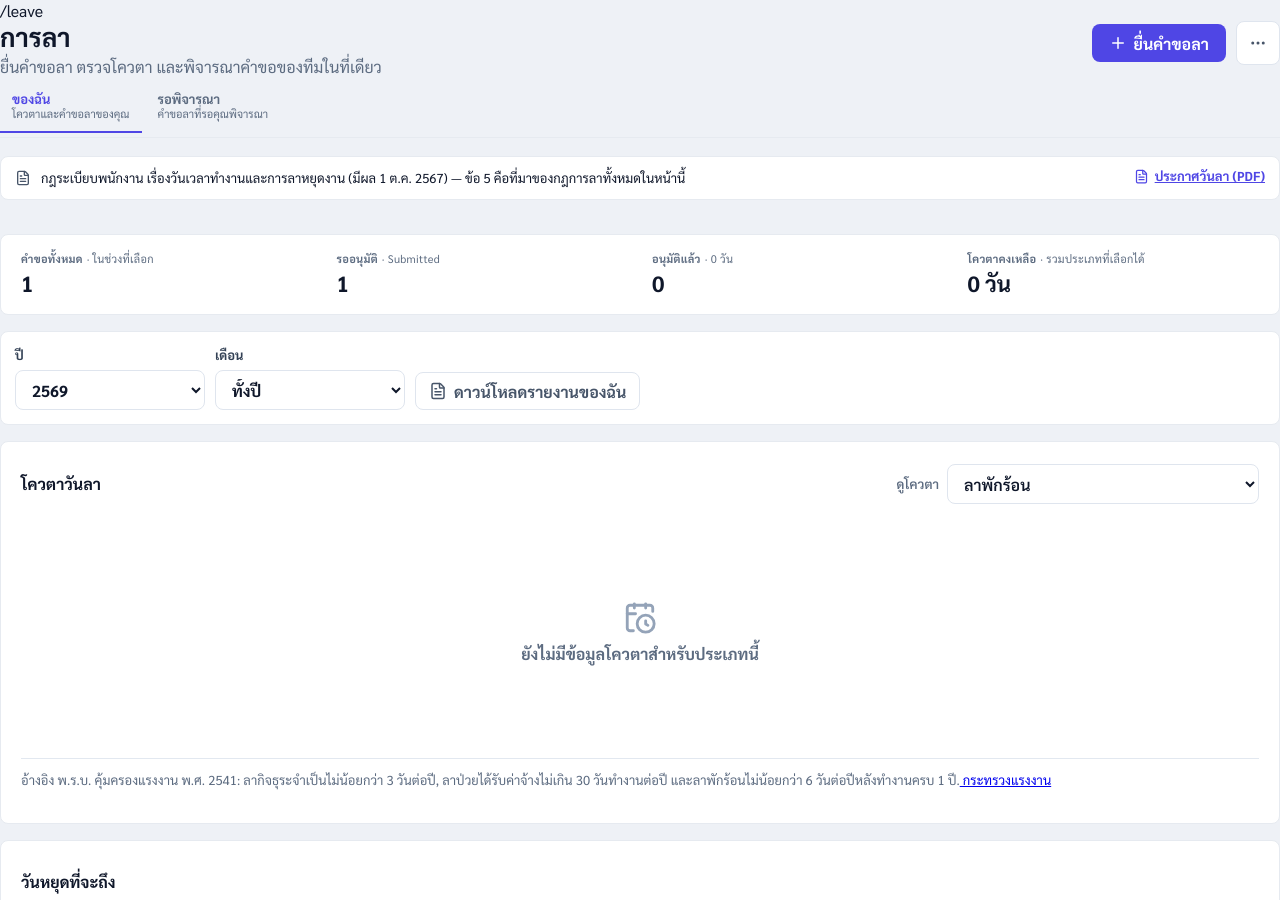
Test: LeaveSurfacePage › a non-HR manager with an actionable report sees and can open "รอพิจารณา"
Click the tab "รอพิจารณา คำขอลาที่รอคุณพิจารณา".
click(213, 107)  # box [146,81,280,133]
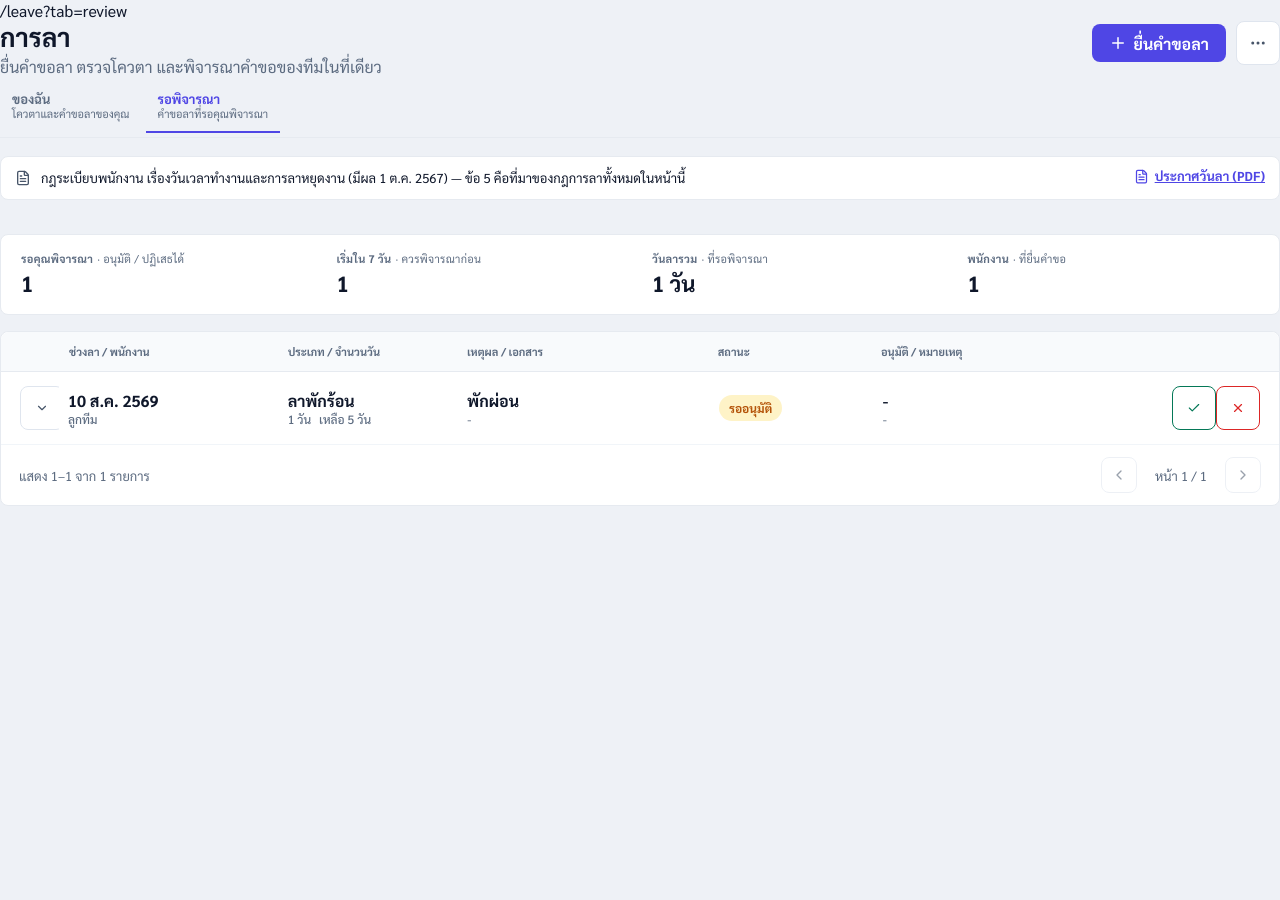
Expected: the text "พักผ่อน" is shown, [467,390,519,411]
Result: the text with test id "location-probe" reads "/leave?tab=review" at [0,0,127,21]
